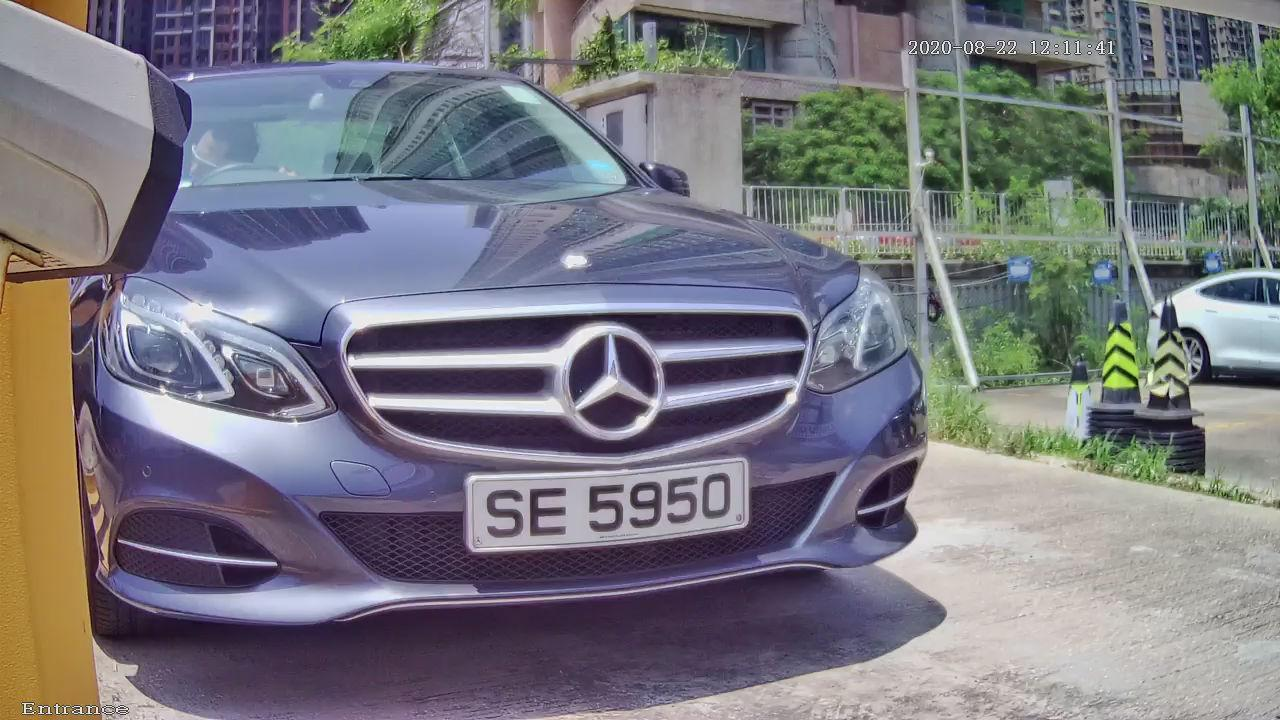Car: (12, 10, 983, 692)
License Plate: (446, 454, 772, 557)
